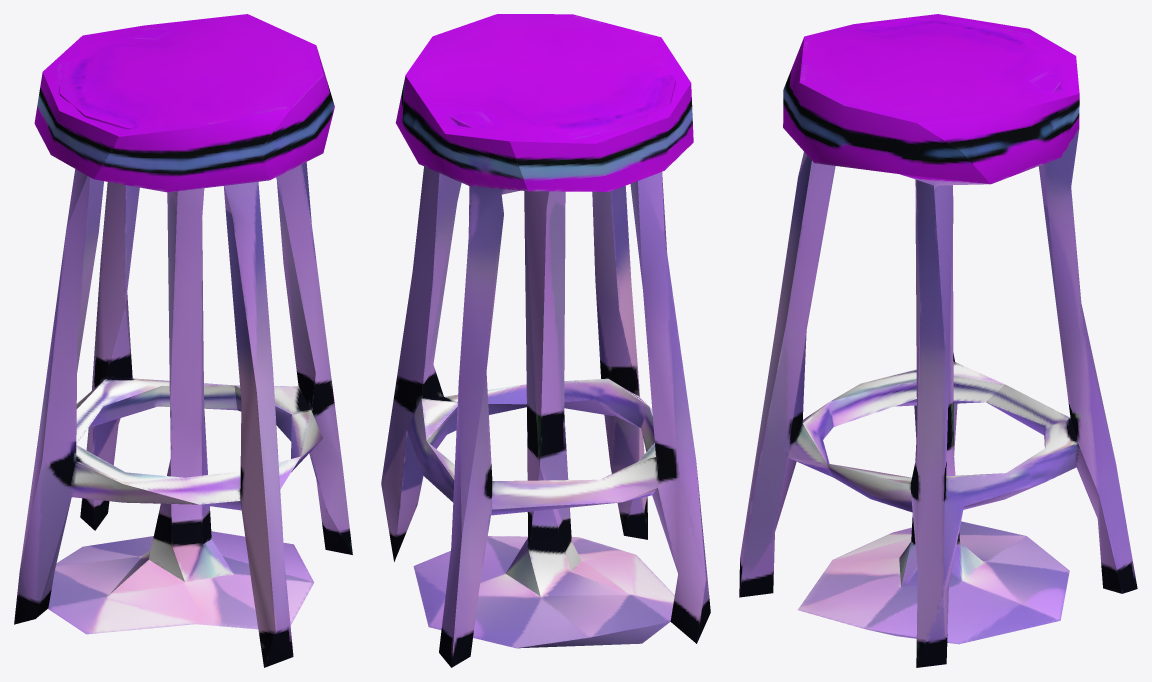
Rendered from neon-bar-stool.glb.
The picture shows the model from 3 angles, left to right: view 1: azimuth 30°, elevation 25°; view 2: azimuth 150°, elevation 25°; view 3: azimuth 270°, elevation 25°; orthographic projection.
Visible parts, largest first — view 1: geometry_0; view 2: geometry_0; view 3: geometry_0.
Part boxes in pixels (x1,y1,x2,y2): geometry_0: (14, 14, 352, 667); geometry_0: (381, 14, 710, 667); geometry_0: (739, 14, 1137, 667).
Size of the model in its own units: 0.6337 by 1 by 0.6653.
Materials: 1 (1 with a texture image).
